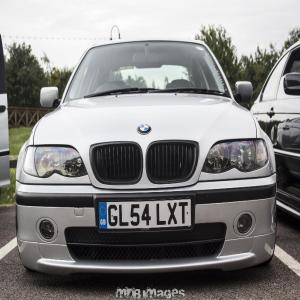Vehicle-registration-plate: (99, 202, 196, 233)
